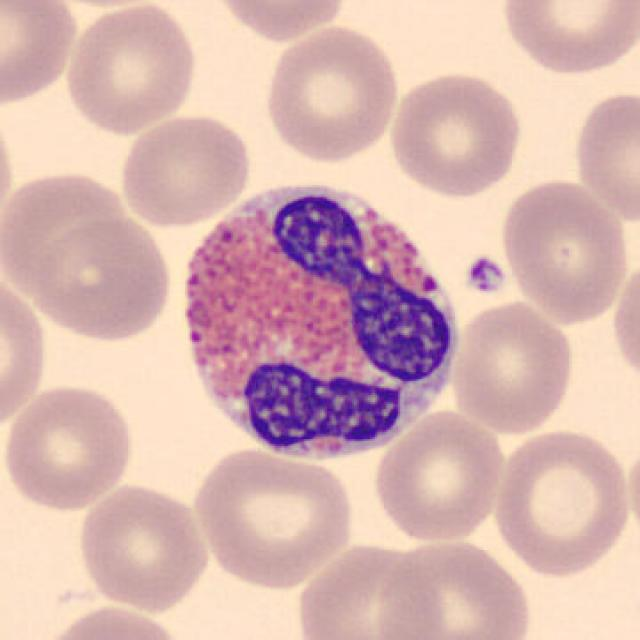Eosinophil: (166, 165, 470, 472)
Platelets: (462, 254, 508, 298)
RBC: (187, 444, 357, 591), (489, 425, 633, 580), (496, 175, 631, 326), (21, 213, 176, 344), (261, 21, 402, 164), (370, 407, 508, 545), (60, 2, 201, 136), (0, 379, 139, 513), (75, 479, 212, 614), (446, 296, 578, 436), (386, 69, 526, 199), (372, 534, 535, 640), (10, 175, 136, 312), (116, 111, 254, 229), (291, 537, 444, 640), (496, 0, 638, 78), (569, 84, 640, 226), (0, 0, 80, 109), (0, 270, 50, 435), (206, 0, 352, 44), (38, 601, 188, 640), (608, 252, 640, 390), (0, 102, 18, 240), (626, 432, 640, 557)
